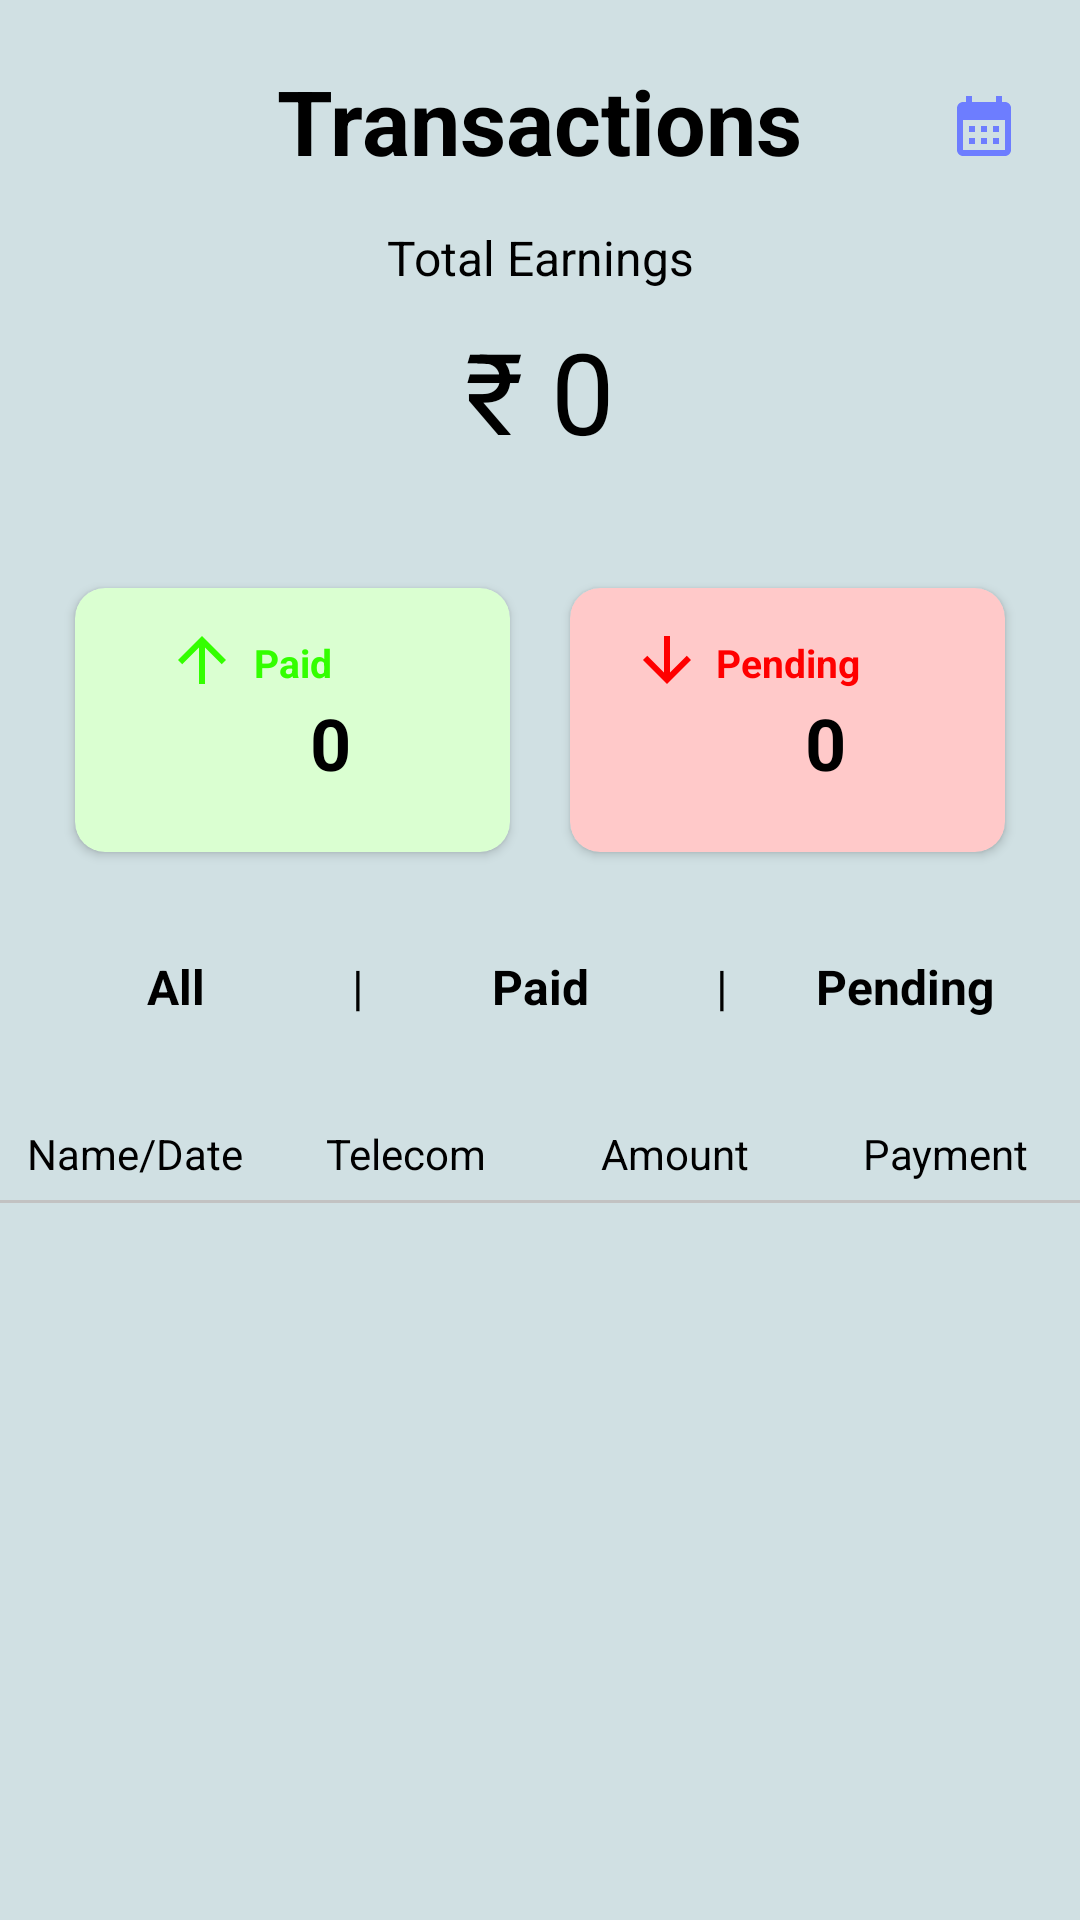

Where icons sit on this 1080 x 1920 app screen, as (x1=x1, y1=y1, x2=x2, y2=y2):
calendar month: (x1=957, y1=96, x2=1011, y2=156)
down: (x1=643, y1=636, x2=691, y2=684)
